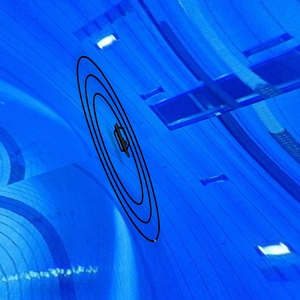circle: (73, 54, 169, 244)
submarine: (108, 119, 140, 159)
